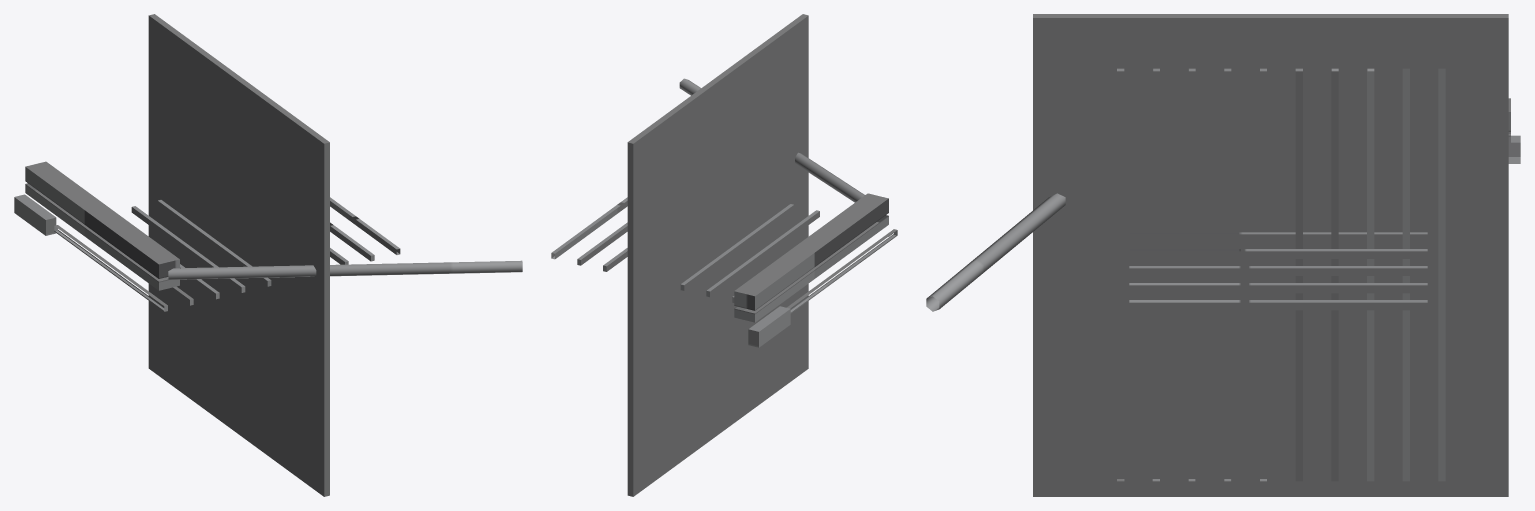
3 renders of one model, left to right at view 1: azimuth 30°, elevation 25°; view 2: azimuth 150°, elevation 25°; view 3: azimuth 270°, elevation 25°, orthographic. The views are drawn at different scales.
Size of the model in its own units: 0.8888 by 1.02 by 1.15.
